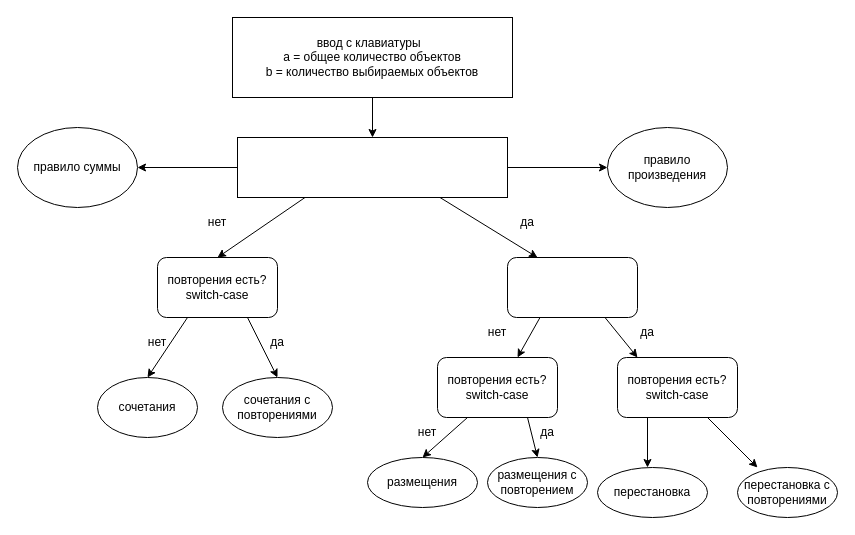
Some shapes in this 855 by 535 pixel diagram are drawn without their labels. The shapes that lost their labels are listed below. From the top down, each one's box as (x1, y1, x2, y2) in pixels, then its label:
(236, 136, 508, 198): условный оператор if который выбирает важность порядка (порядок важен?)
(506, 256, 638, 318): Нужно выбрать все n элементов? условный оператор if
